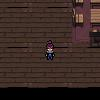Hide: (88, 29, 100, 47)
Obstacle: (68, 7, 87, 28), (87, 7, 100, 28)
Victim: (42, 38, 57, 61)
